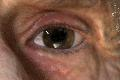eye: (44, 29, 75, 49)
